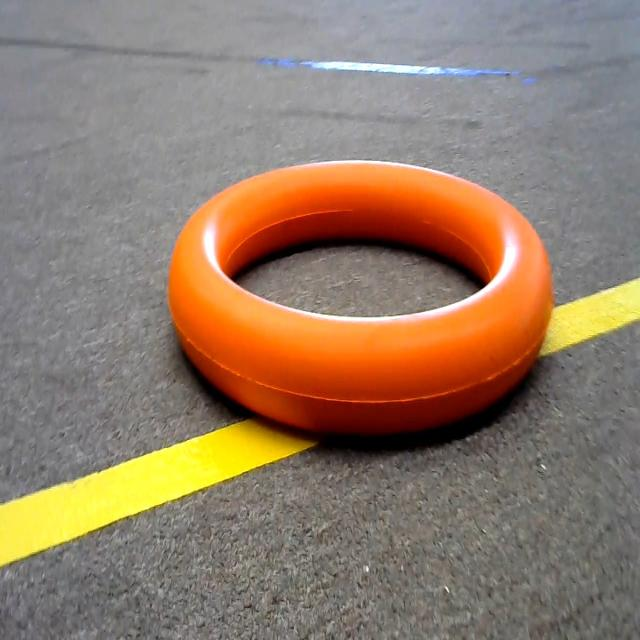note: (148, 112, 576, 452)
